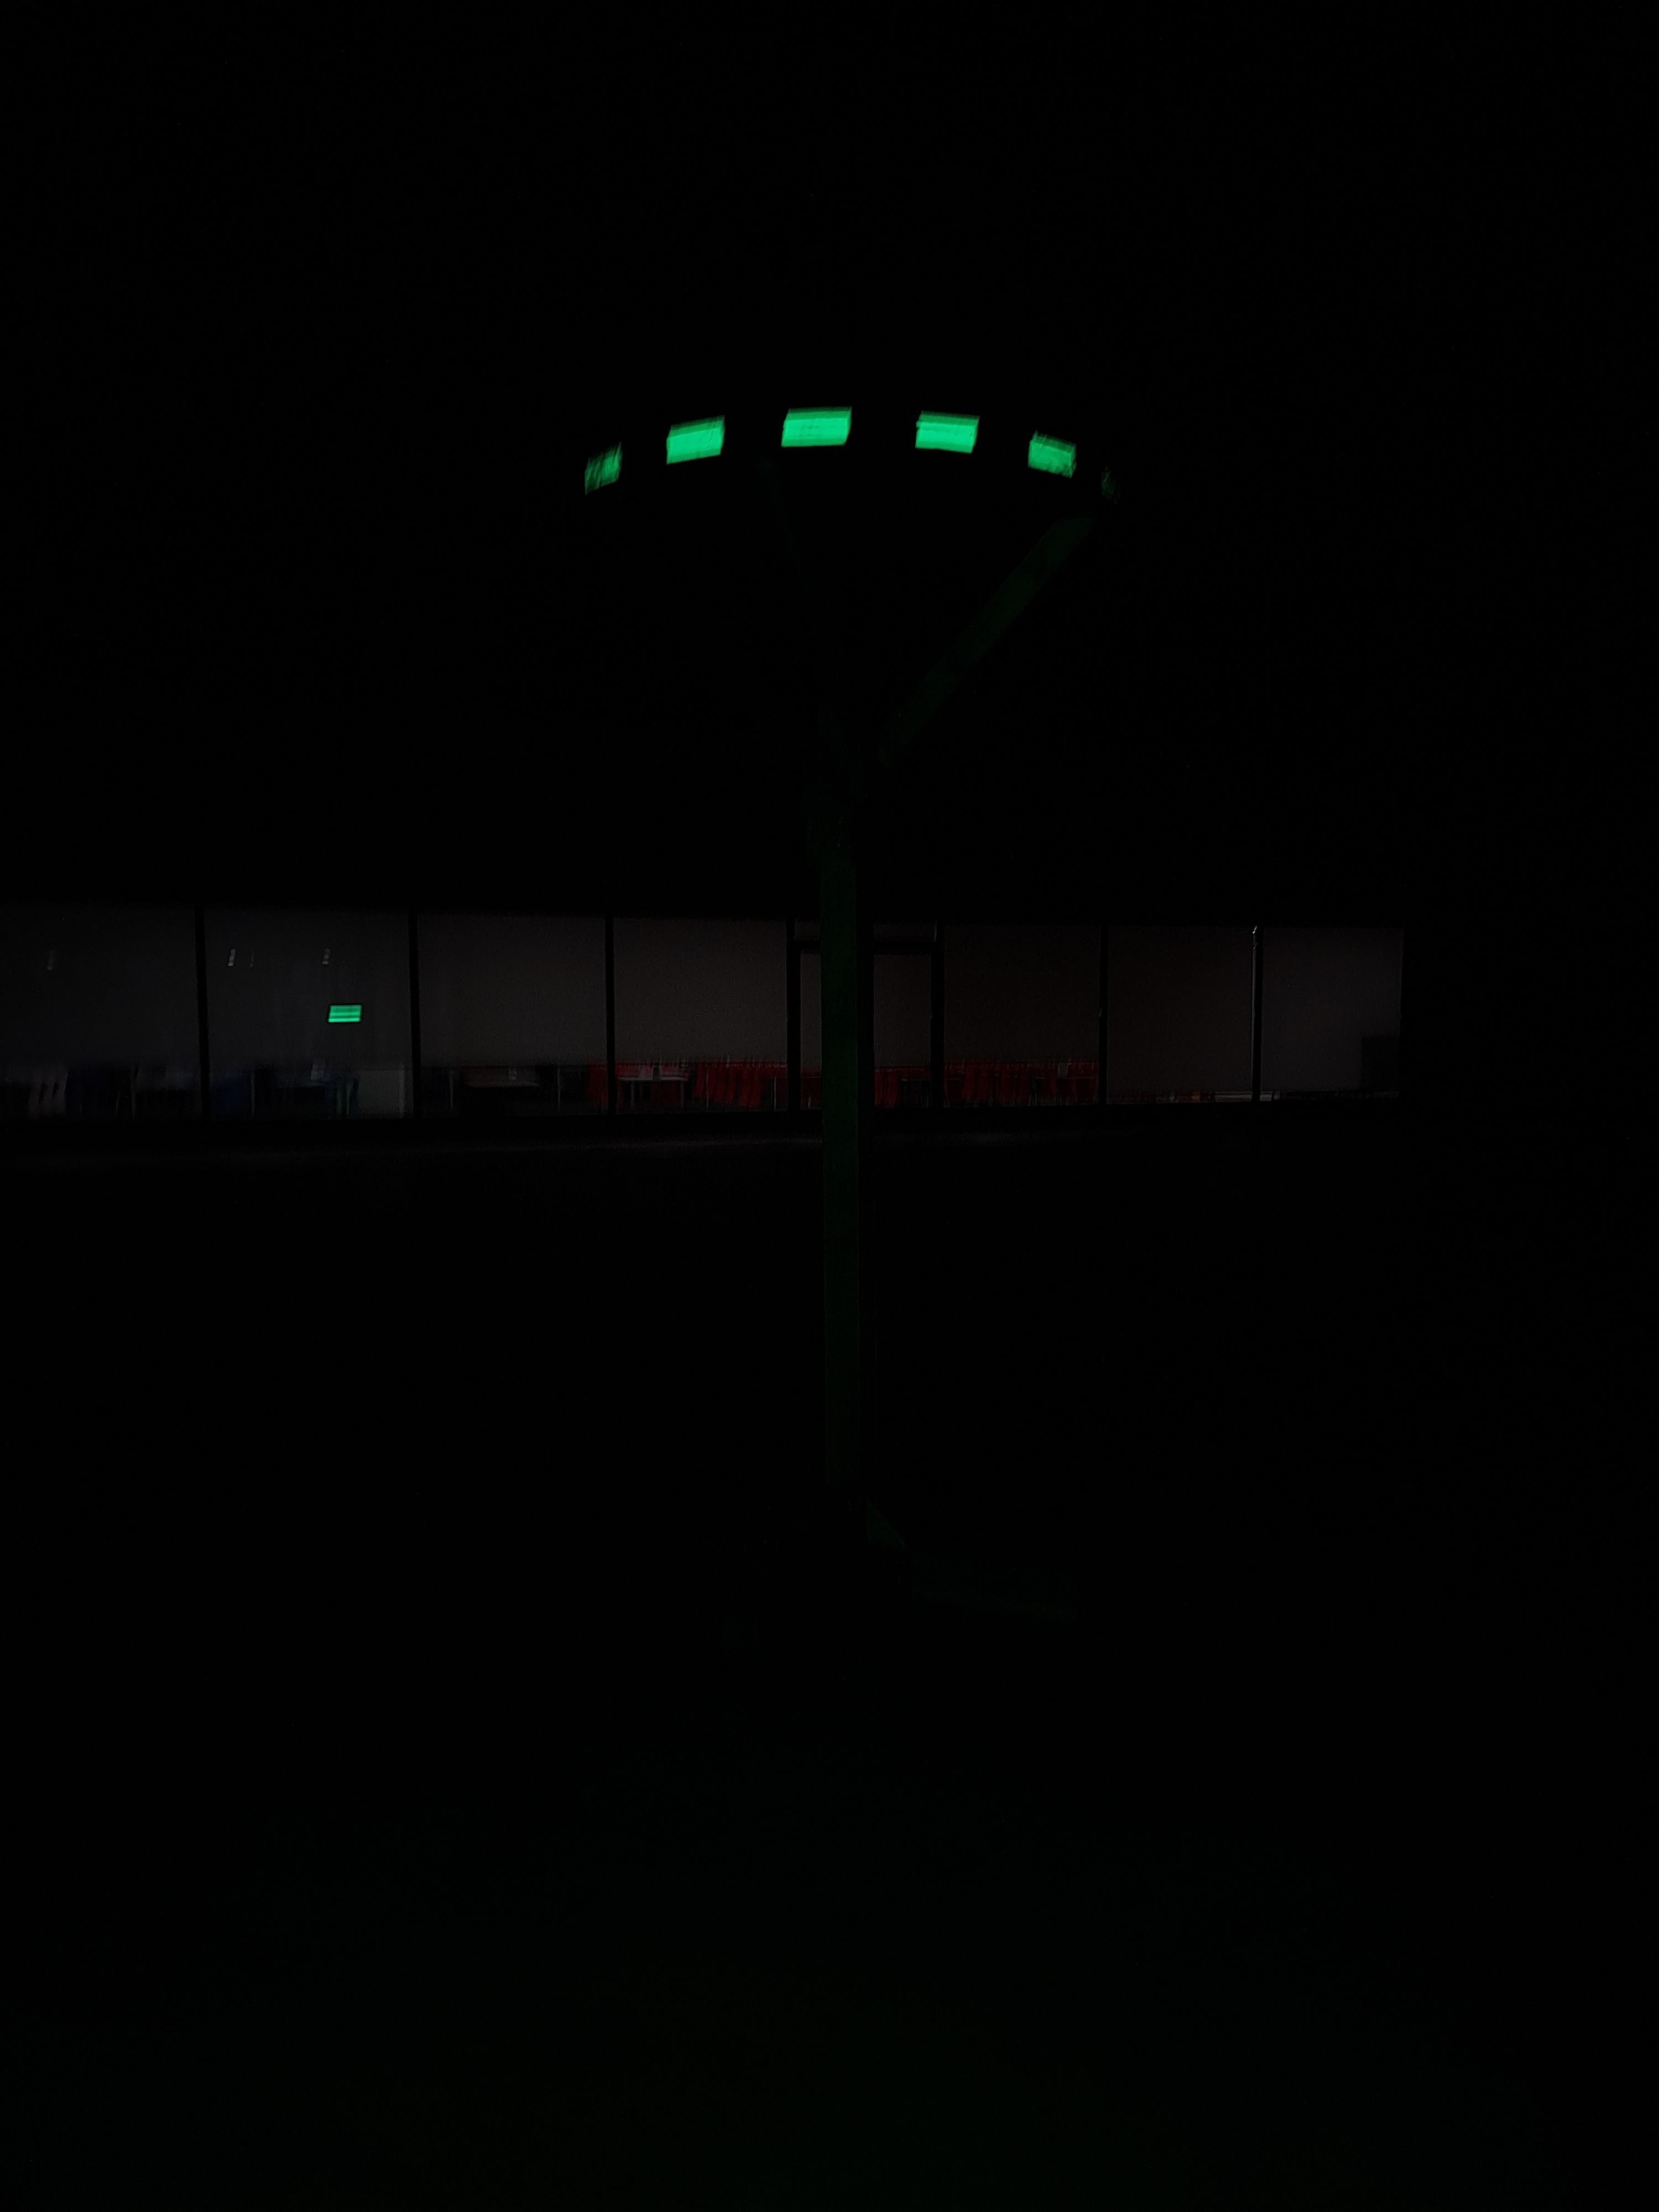hoop: (570, 385, 1082, 510)
